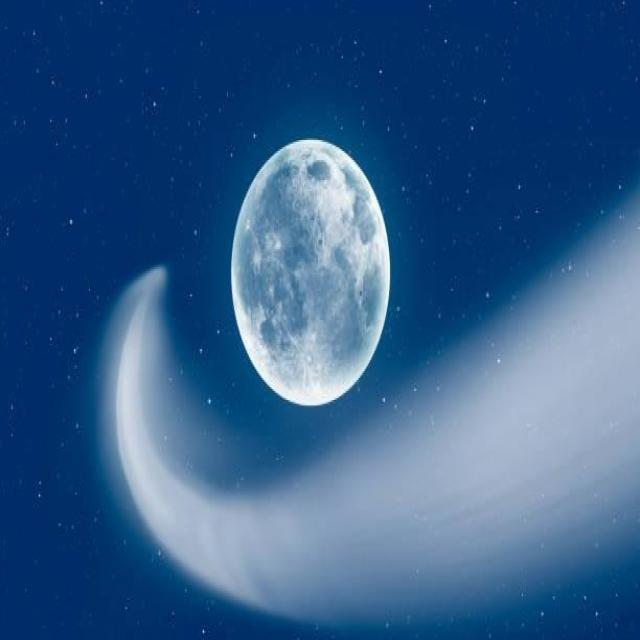moon: (228, 128, 396, 412)
